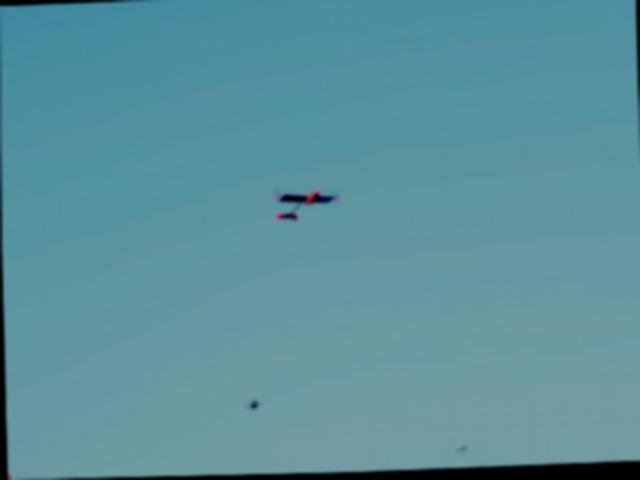uav: (265, 179, 346, 229)
